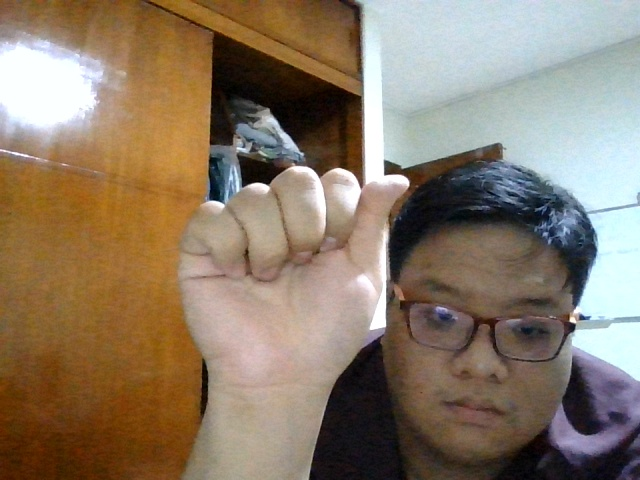a: (169, 162, 413, 384)
